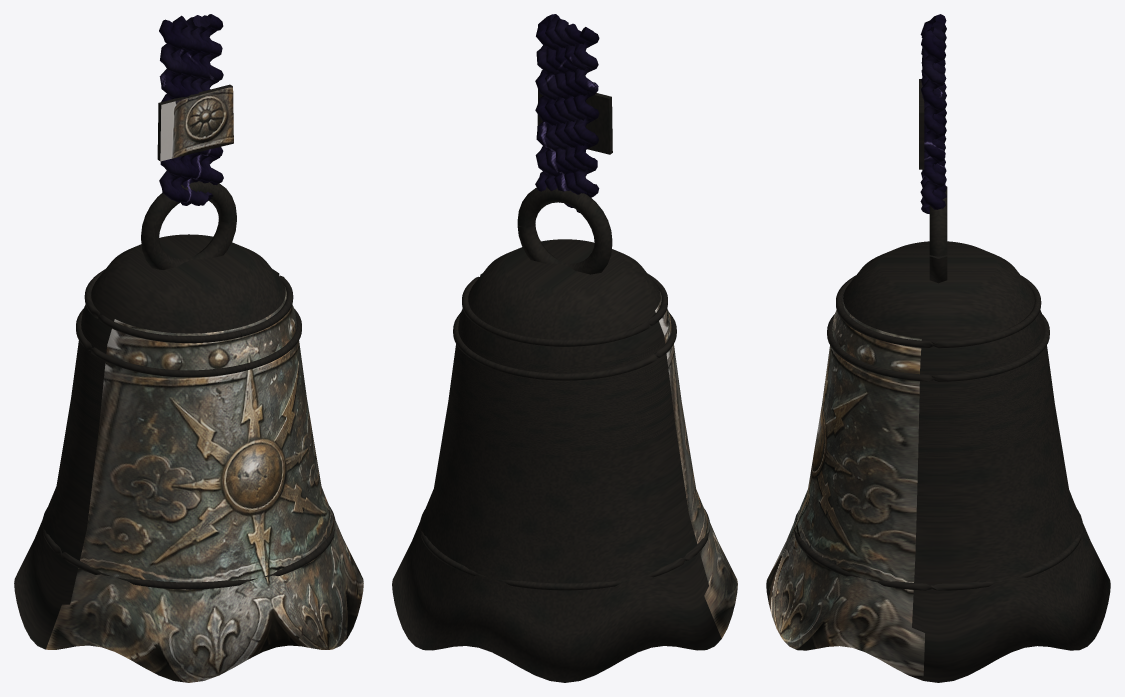
File: thunderbell.glb
3 views of the same model, side by side, from view 1: azimuth 30°, elevation 25°; view 2: azimuth 150°, elevation 25°; view 3: azimuth 270°, elevation 25° (orthographic).
Visible parts, largest first — view 1: Hollow bronze bell with interior, Engraved strap ferrule, Cast suspension loop, Rolled bell decorative bead, Rolled bell decorative bead.001, Raised purple strap braid, Rolled bell decorative bead.002, Raised purple strap braid.002, Raised purple strap braid.001, Raised purple strap braid.004, Raised purple strap braid.003; view 2: Hollow bronze bell with interior, Cast suspension loop, Raised purple strap braid, Rolled bell decorative bead, Rolled bell decorative bead.001, Raised purple strap braid.004, Rolled bell decorative bead.002, Raised purple strap braid.001, Raised purple strap braid.002, Raised purple strap braid.003, Engraved strap ferrule; view 3: Hollow bronze bell with interior, Raised purple strap braid.004, Rolled bell decorative bead, Rolled bell decorative bead.001, Rolled bell decorative bead.002, Cast suspension loop, Raised purple strap braid.003.
Boxes of the visible parts, x1,y1,x2,y2 form: Hollow bronze bell with interior: (14, 234, 363, 682); Engraved strap ferrule: (157, 84, 233, 161); Cast suspension loop: (141, 181, 236, 269); Rolled bell decorative bead: (84, 269, 293, 343); Rolled bell decorative bead.001: (76, 309, 301, 377); Raised purple strap braid: (159, 19, 182, 202); Rolled bell decorative bead.002: (42, 506, 335, 589); Raised purple strap braid.002: (181, 15, 201, 205); Raised purple strap braid.001: (171, 15, 192, 205); Raised purple strap braid.004: (200, 14, 223, 201); Raised purple strap braid.003: (190, 15, 211, 205); Hollow bronze bell with interior: (392, 239, 737, 682); Cast suspension loop: (517, 187, 612, 274); Raised purple strap braid: (573, 27, 599, 212); Rolled bell decorative bead: (462, 273, 667, 346); Rolled bell decorative bead.001: (453, 312, 676, 380); Raised purple strap braid.004: (535, 14, 559, 191); Rolled bell decorative bead.002: (420, 509, 709, 590); Raised purple strap braid.001: (563, 23, 587, 207); Raised purple strap braid.002: (554, 19, 577, 191); Raised purple strap braid.003: (544, 15, 568, 190); Engraved strap ferrule: (537, 89, 612, 154); Hollow bronze bell with interior: (766, 241, 1110, 682); Raised purple strap braid.004: (920, 33, 946, 213); Rolled bell decorative bead: (836, 275, 1041, 348); Rolled bell decorative bead.001: (827, 314, 1049, 381); Rolled bell decorative bead.002: (794, 509, 1082, 590); Cast suspension loop: (929, 186, 947, 283); Raised purple strap braid.003: (920, 30, 946, 213).
Size of the model in its own units: 0.1161 by 0.24 by 0.1161.
3 materials, 3 textured.
